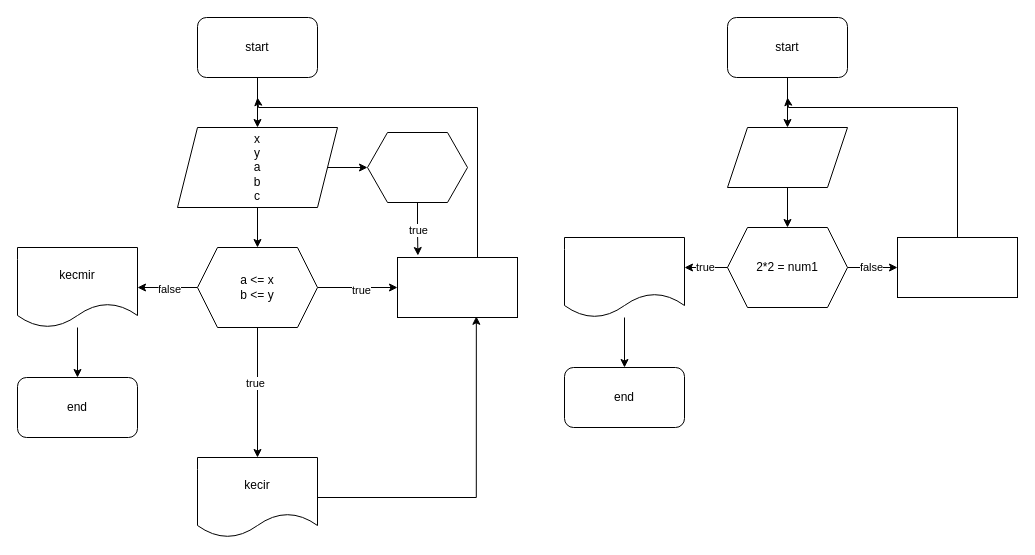
This 1035x555 diagram has some shape labels left out. The shapes that lost their labels are listed below. From the top down, each one's box as (x1, y1, x2, y2) in pixels, then its label:
(366, 132, 468, 202): b <=y c<=x
(726, 126, 848, 188): num1 ;
(396, 256, 518, 318): a++ b++ c++
(564, 236, 684, 318): power
(896, 236, 1018, 298): num1++
